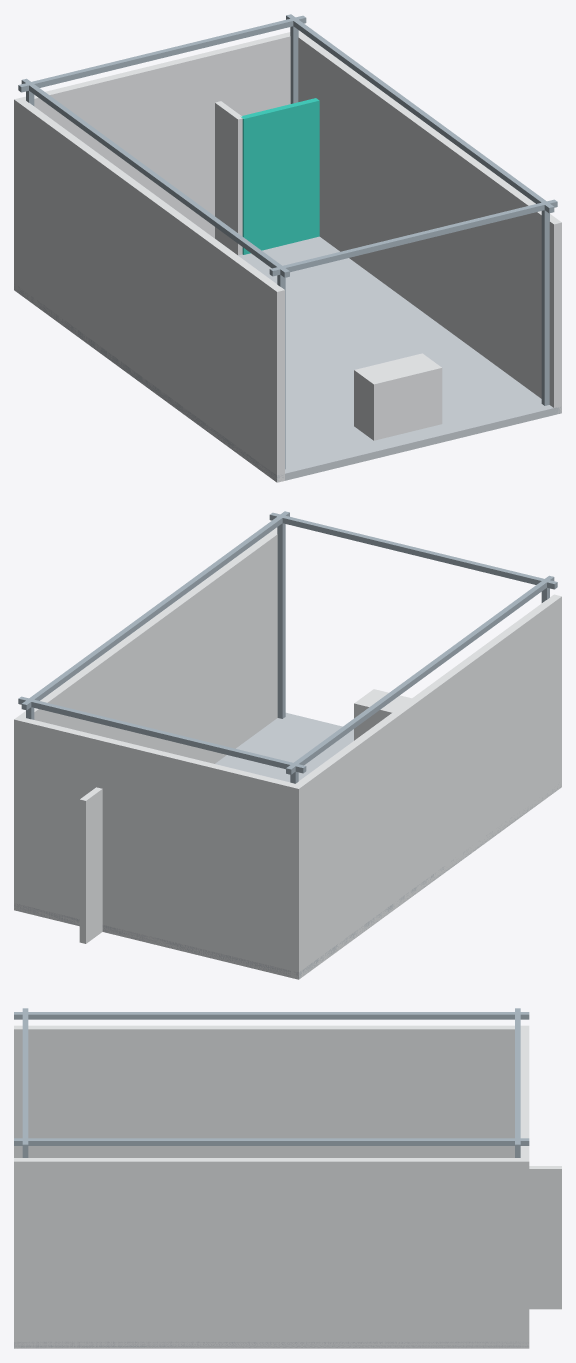
3 views of the same model, one above another, from view 1: azimuth 30°, elevation 25°; view 2: azimuth 150°, elevation 25°; view 3: azimuth 270°, elevation 25° (orthographic). The views are drawn at different scales.
Visible parts, largest first — view 1: Exhibition Booth Concept; view 2: Exhibition Booth Concept; view 3: Exhibition Booth Concept.
Boxes of the visible parts, left/top/right/bottom form: Exhibition Booth Concept: left=14, top=14, right=561, bottom=482; Exhibition Booth Concept: left=14, top=511, right=561, bottom=979; Exhibition Booth Concept: left=14, top=1008, right=561, bottom=1348.
Bounding box in the file's own units: 5 × 3.49 × 8.51.
